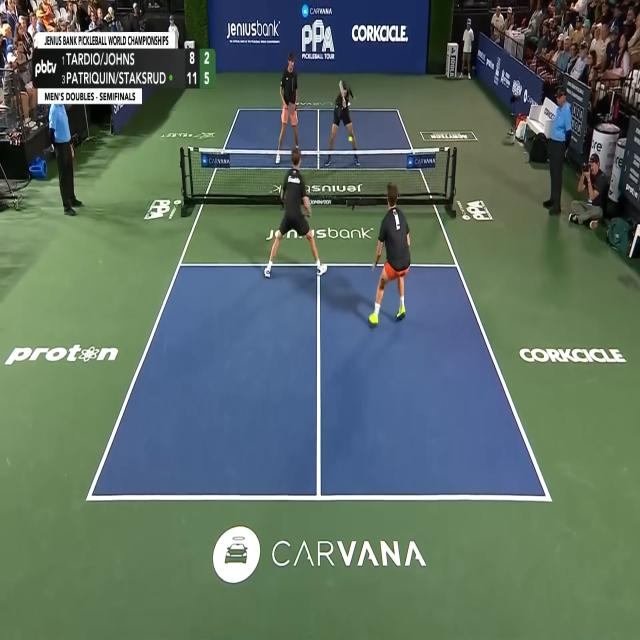ball: (348, 135, 353, 142)
